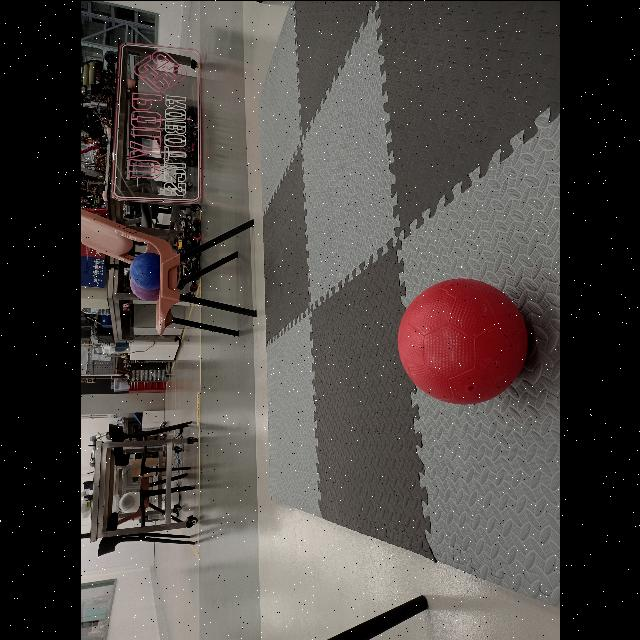B: (128, 252, 160, 288)
P: (129, 276, 159, 300)
R: (396, 276, 530, 402)
